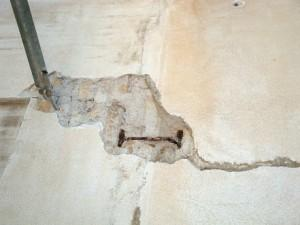exposed_rebar: (118, 129, 183, 149)
spalling: (49, 71, 300, 171)
